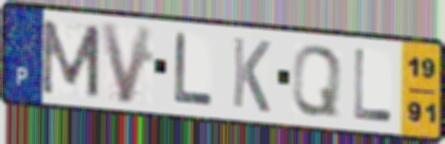K: (230, 34, 273, 116)
L: (171, 30, 216, 110), (352, 46, 395, 125)
M: (37, 17, 103, 101)
Q: (289, 43, 345, 119)
V: (97, 20, 157, 107)
